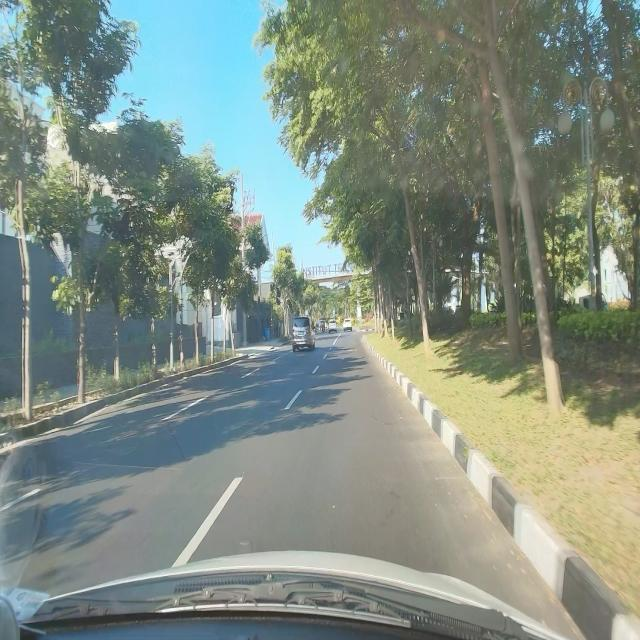car: (291, 316, 316, 353)
